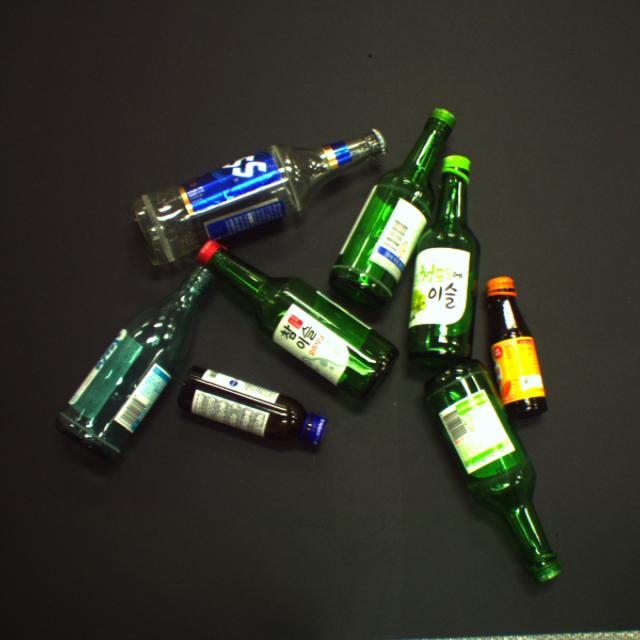beer-bottle: (132, 128, 388, 266)
soju-bottle: (197, 240, 399, 400), (424, 359, 564, 583), (56, 265, 216, 458), (330, 109, 454, 307), (409, 154, 479, 371)
